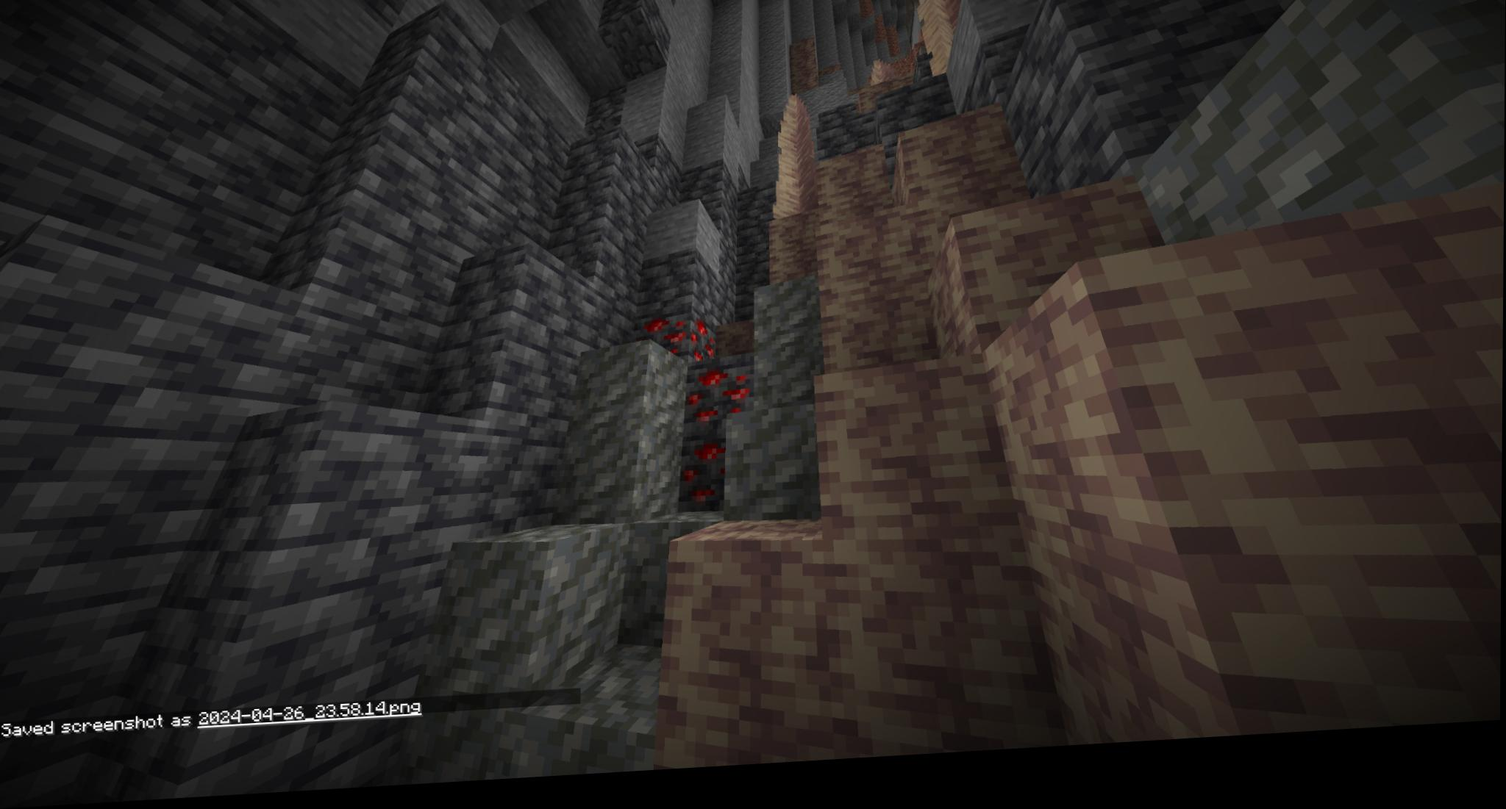redstone ore: (680, 447, 735, 528), (689, 371, 748, 433), (642, 323, 686, 367), (692, 331, 718, 370)
